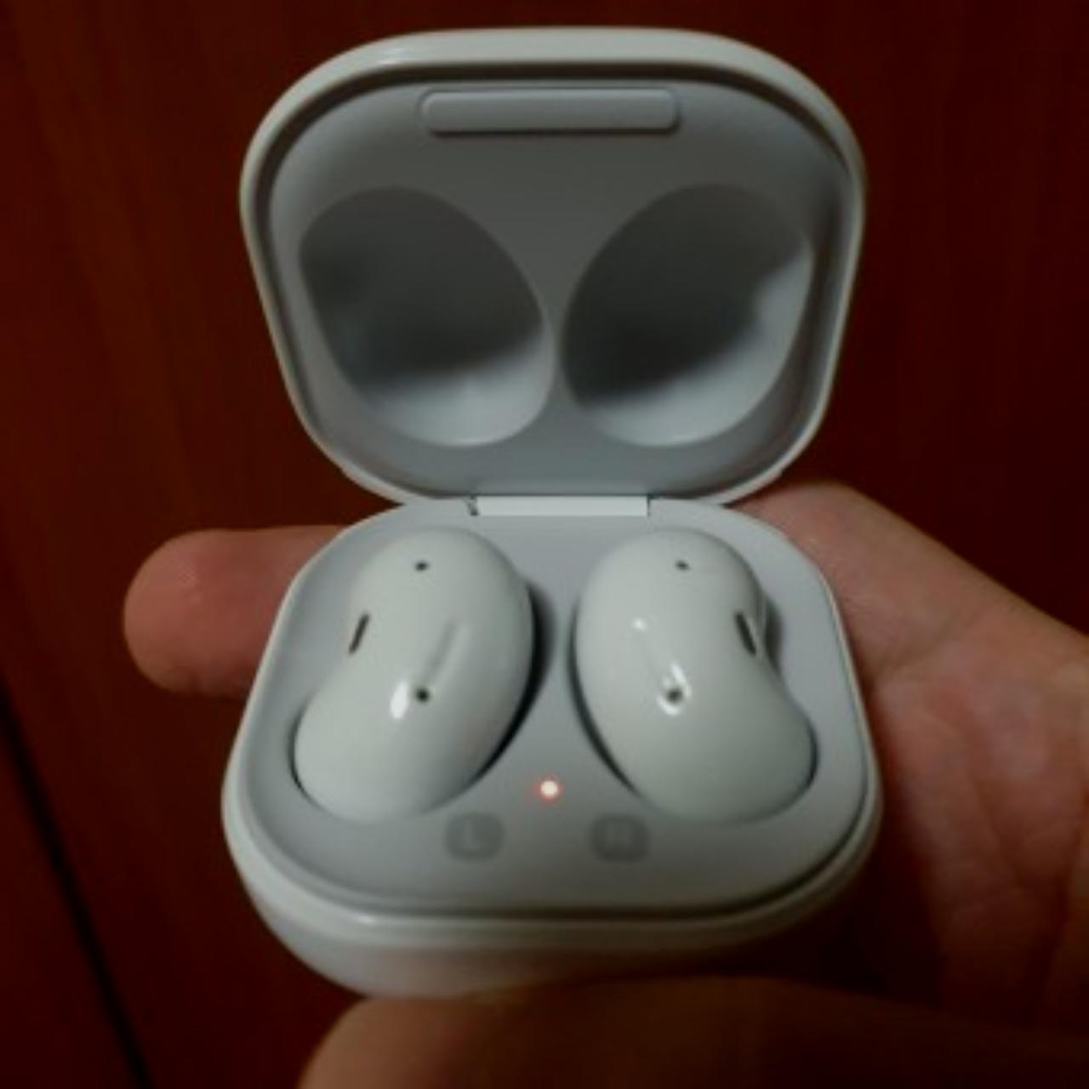Buds: (214, 25, 898, 993)
Buds_Units: (559, 525, 824, 828), (286, 521, 546, 825)
